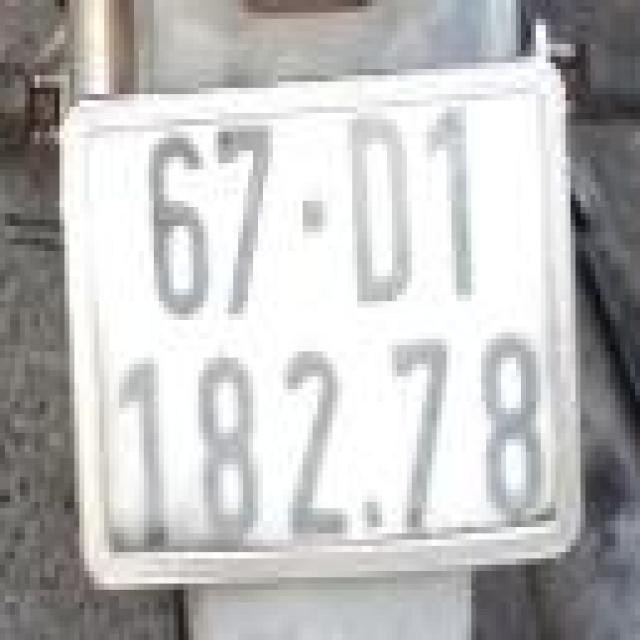1: (112, 351, 176, 565), (424, 98, 484, 304)
2: (268, 338, 352, 540)
6: (139, 122, 213, 317)
7: (211, 119, 280, 314), (389, 336, 454, 542)
8: (188, 339, 263, 558), (474, 329, 558, 524)
D: (330, 104, 424, 310)
